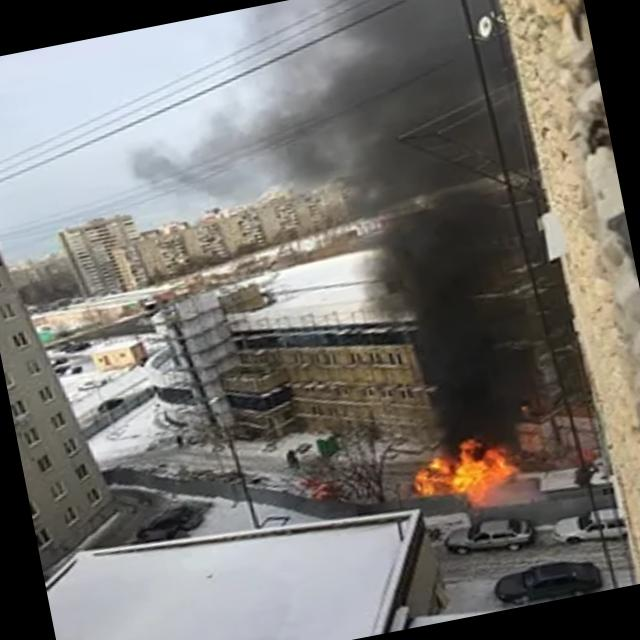Smoke: (322, 0, 558, 466)
